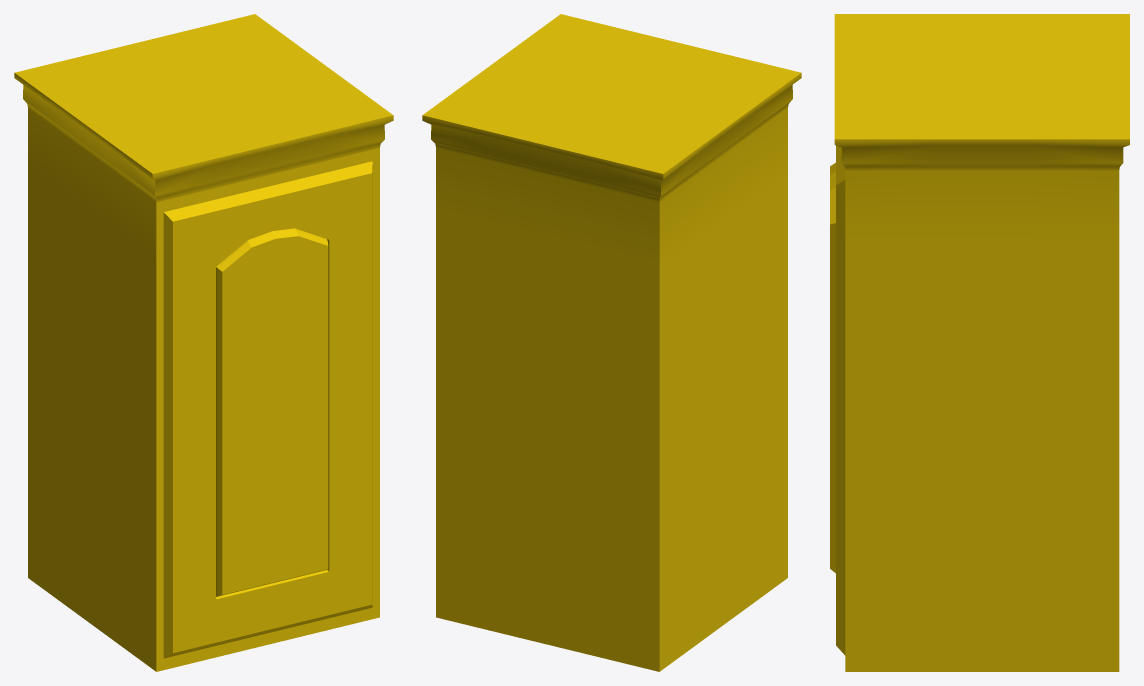
File: Kitchen_Cupboard_1_1.FBX
3 renders of one model, left to right at view 1: azimuth 30°, elevation 25°; view 2: azimuth 150°, elevation 25°; view 3: azimuth 270°, elevation 25°, orthographic. The views are drawn at different scales.
Visible parts, largest first — view 1: Box011; view 2: Box011; view 3: Box011.
Boxes of the visible parts, x1,y1,x2,y2 form: Box011: [14, 14, 393, 671]; Box011: [422, 14, 801, 671]; Box011: [830, 14, 1129, 671].
Bounding box in the file's own units: 0.8476 × 1.69 × 0.8569.
